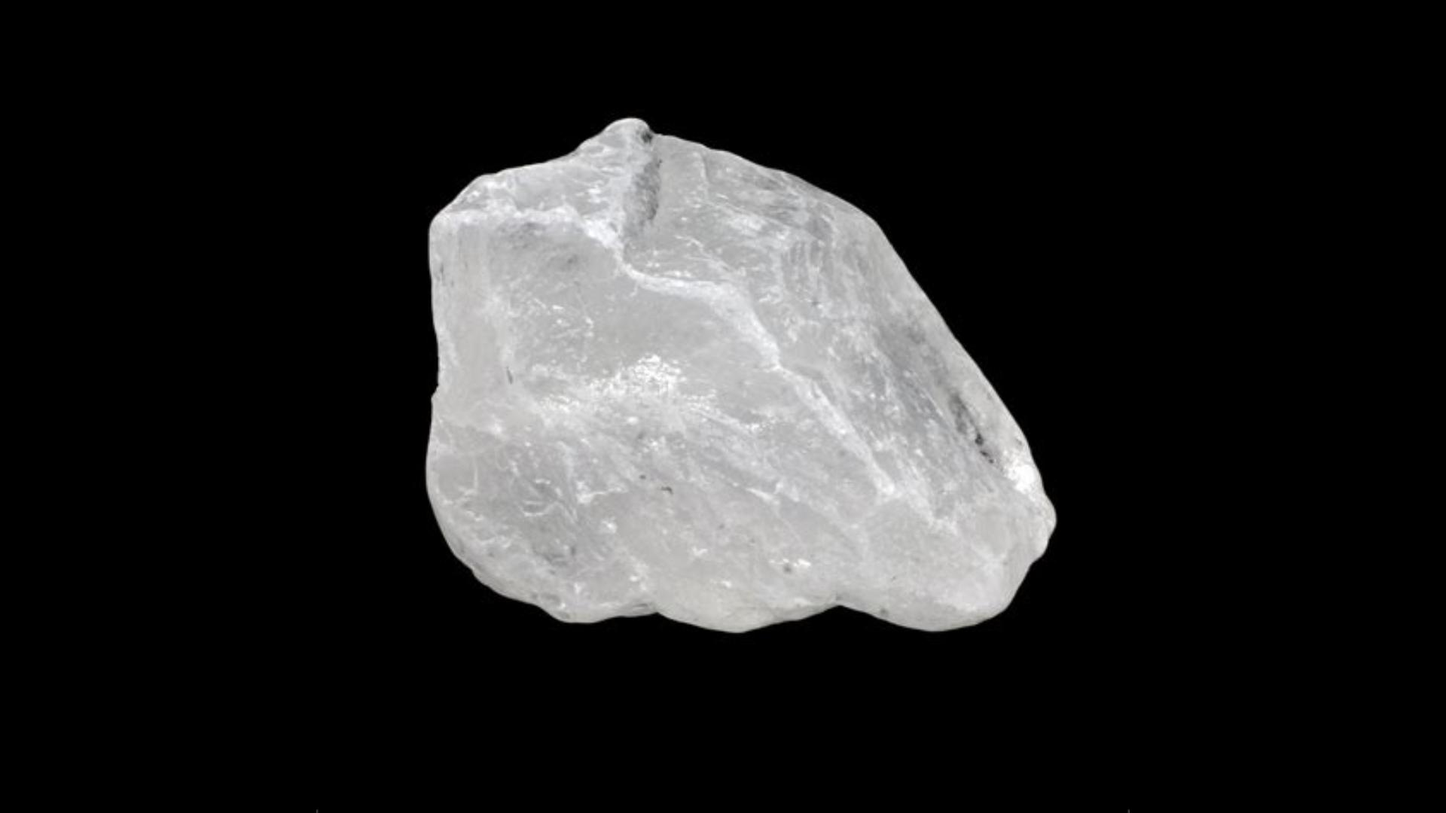rock: (428, 120, 1052, 629)
